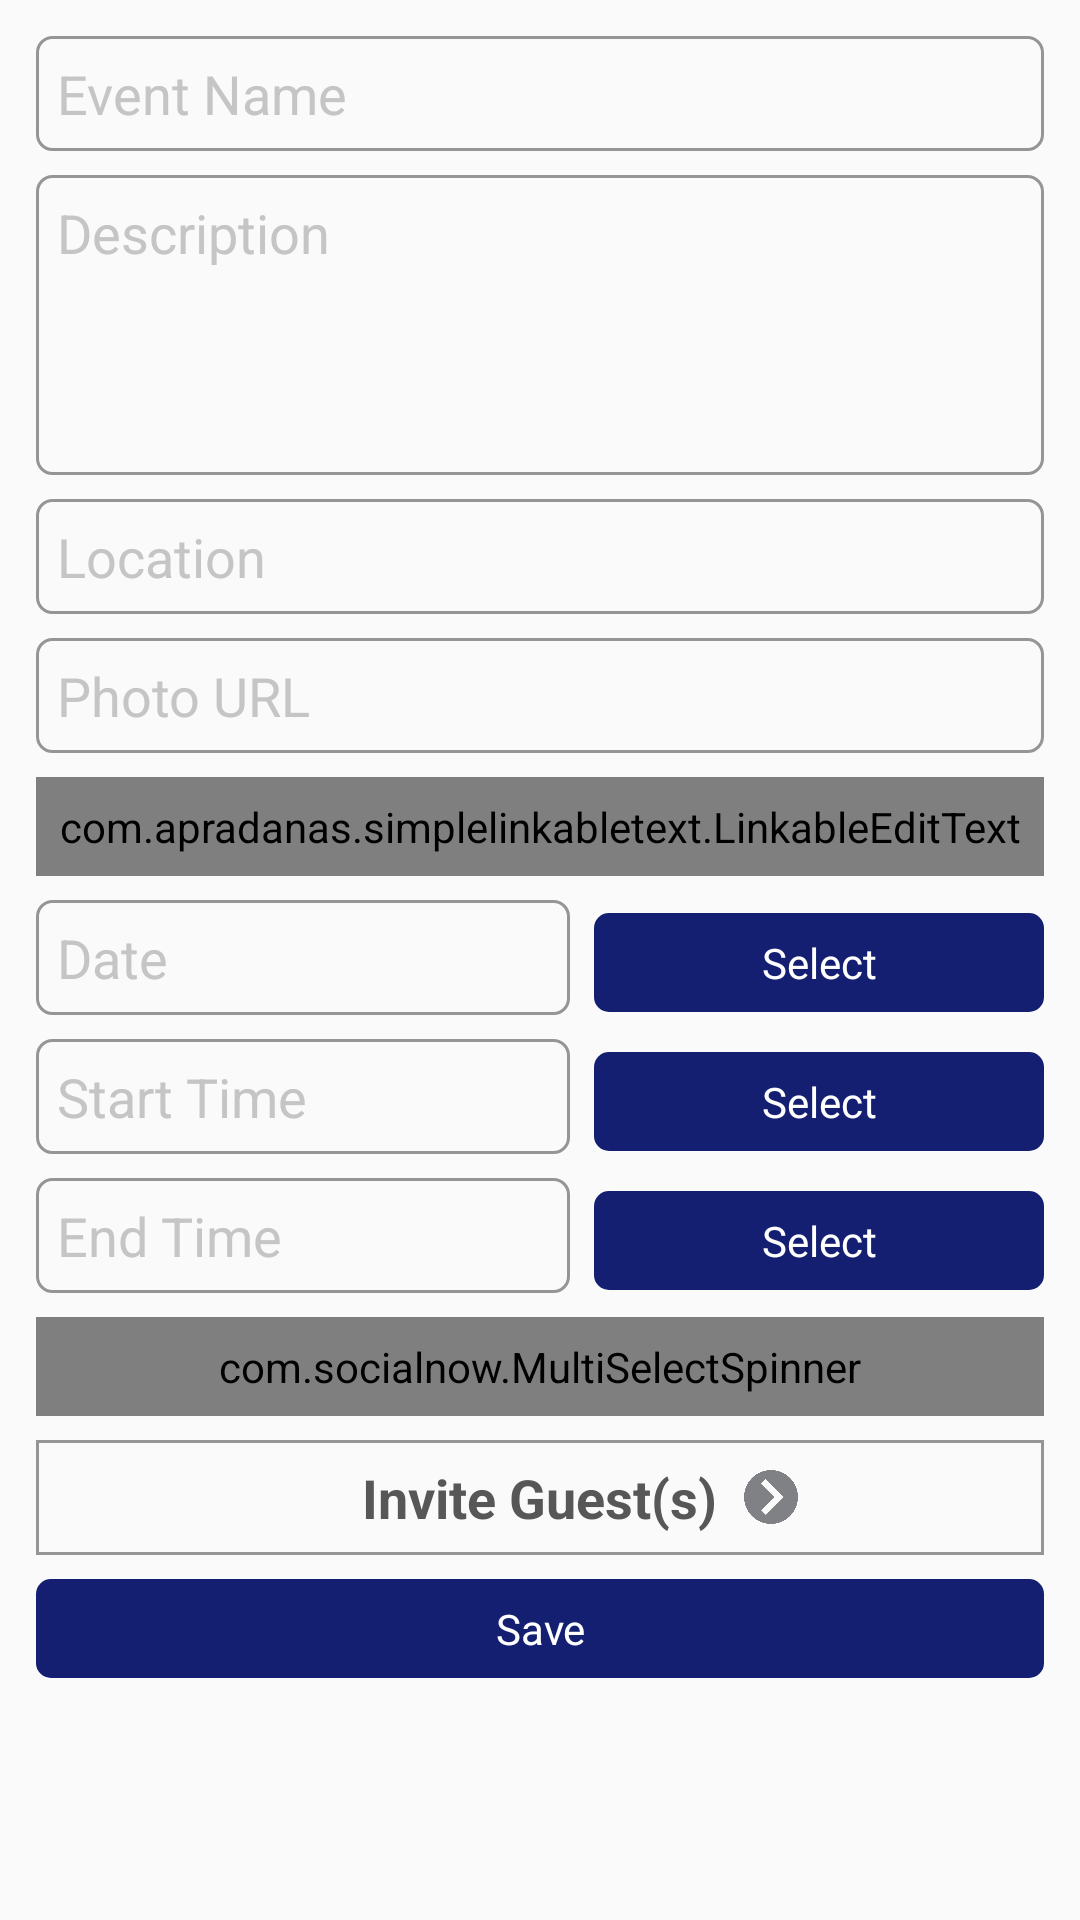

Icon click points for this 1080px x 1920px phone screenshot, format (x=x, y=y):
rightarrow: (x=771, y=1497)
